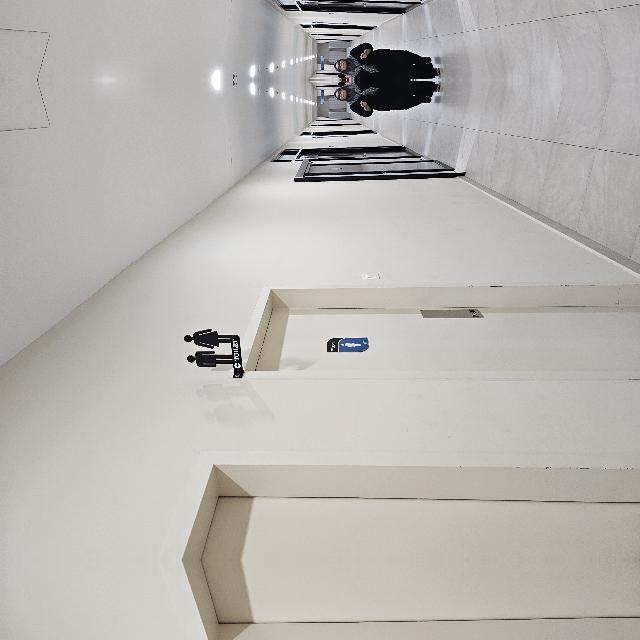door: (184, 331, 276, 640), (184, 401, 276, 640)
person: (440, 412, 480, 524), (440, 596, 479, 640)
